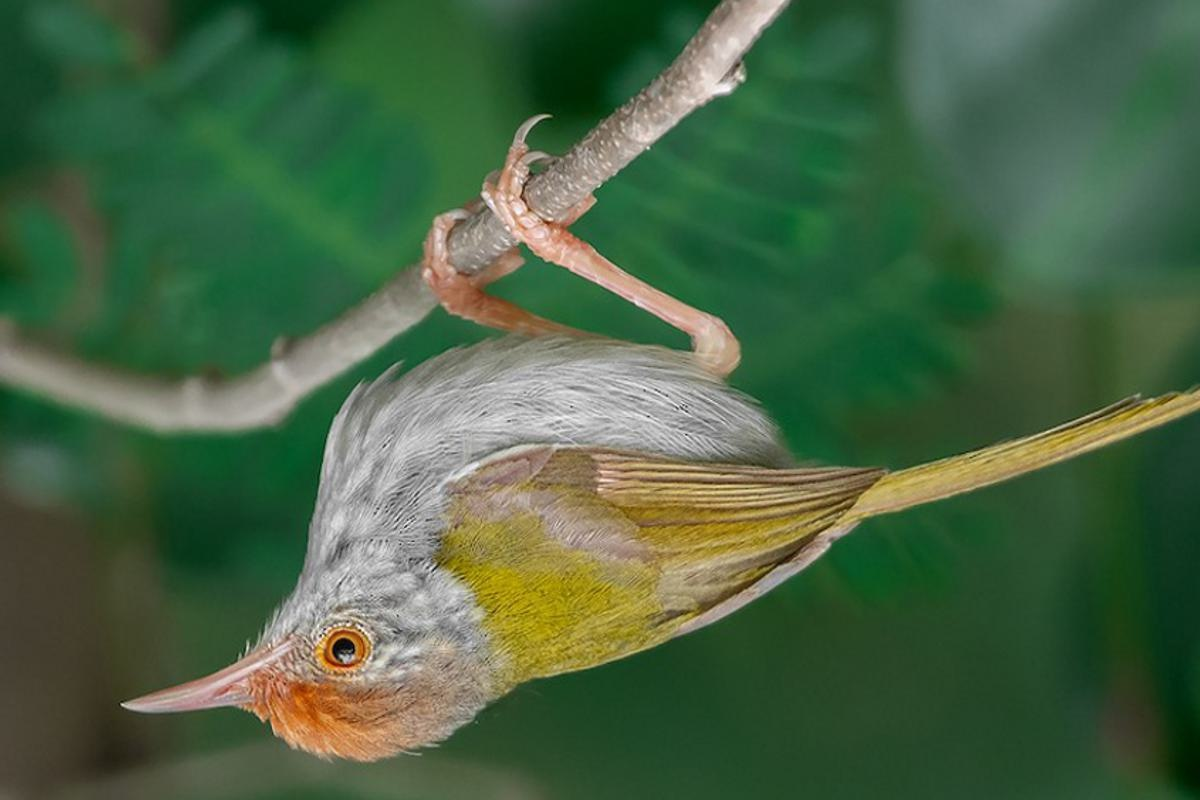tailorbird: (127, 203, 1200, 786)
